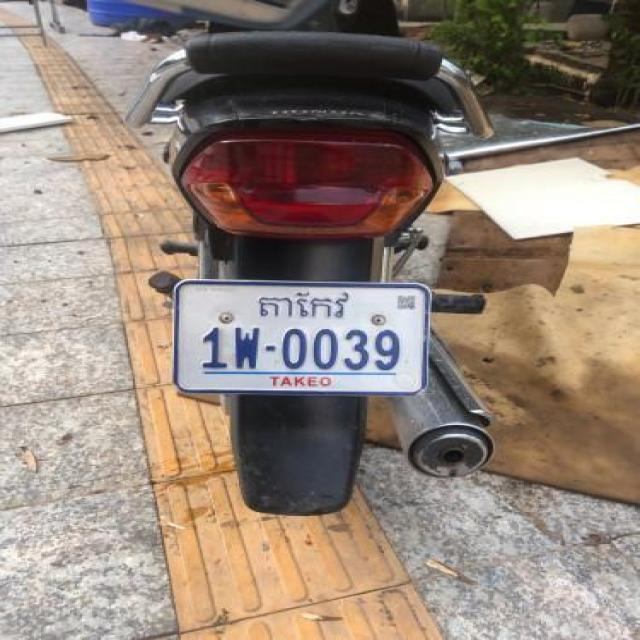Takeo: (256, 288, 350, 322)
